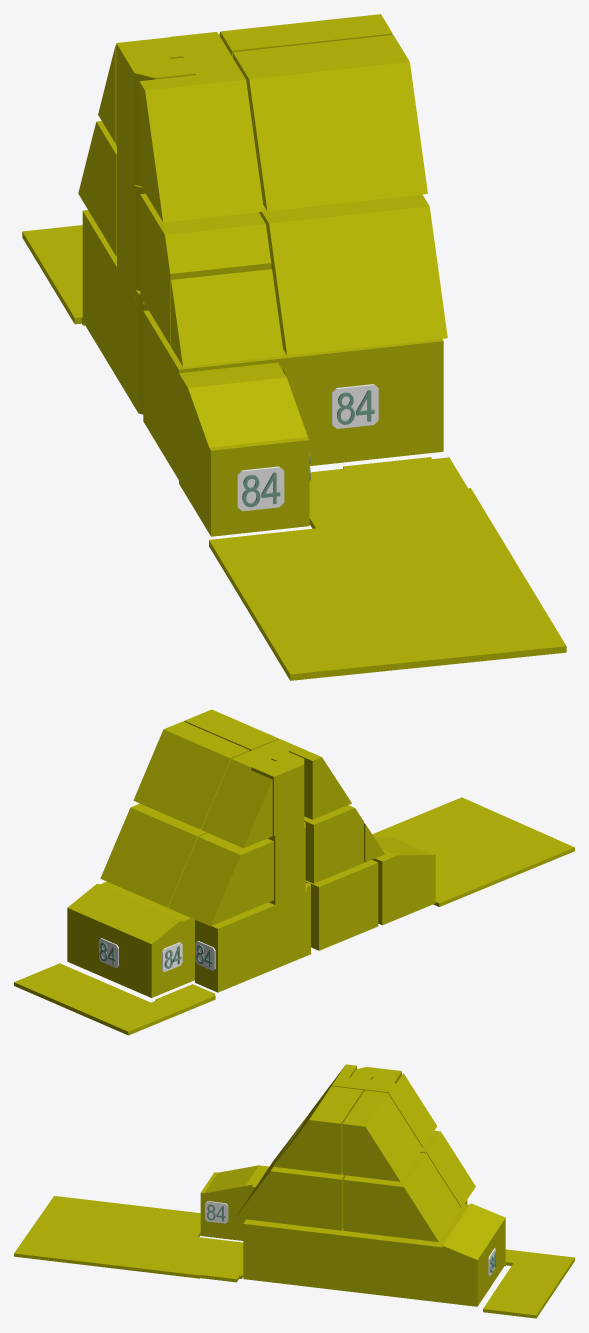
3 views of the same model, one above another, from view 1: azimuth 30°, elevation 25°; view 2: azimuth 150°, elevation 25°; view 3: azimuth 270°, elevation 25° (orthographic). The views are drawn at different scales.
Parts seen in each view (by area): view 1: g_17, g_10, g_7, g_0, g_15, g_5, g_16, g_6, g_14, g_2, g_11, g_18 (+5 smaller); view 2: g_1, g_17, g_15, g_11, g_9, g_8, g_18, g_2, g_0, g_5, g_6, g_14 (+4 smaller); view 3: g_1, g_17, g_8, g_11, g_7, g_0, g_10, g_18, g_5, g_15, g_9, g_14 (+1 smaller).
Part boxes in pixels (x1,y1,x2,y2): g_17: (209, 457, 566, 680); g_10: (233, 35, 427, 211); g_7: (259, 194, 447, 355); g_0: (143, 310, 443, 479); g_15: (98, 32, 263, 222); g_5: (179, 362, 309, 536); g_16: (171, 269, 283, 366); g_6: (140, 193, 271, 345); g_14: (116, 37, 194, 176); g_2: (82, 210, 116, 375); g_11: (219, 14, 392, 57); g_18: (22, 225, 84, 325); g_1: (67, 881, 194, 997); g_17: (372, 797, 574, 906); g_15: (201, 739, 351, 848); g_11: (133, 721, 249, 829); g_9: (168, 833, 273, 926); g_8: (100, 803, 207, 907); g_18: (14, 963, 215, 1035); g_2: (195, 903, 273, 992); g_0: (305, 860, 378, 950); g_5: (372, 836, 435, 925); g_6: (304, 805, 363, 883); g_14: (251, 751, 304, 835); g_1: (313, 1203, 505, 1306); g_17: (14, 1196, 243, 1282); g_8: (343, 1152, 461, 1241); g_11: (342, 1090, 422, 1181); g_7: (235, 1138, 345, 1230); g_0: (243, 1219, 315, 1287); g_10: (274, 1086, 363, 1174); g_18: (483, 1249, 574, 1318); g_5: (200, 1165, 268, 1240); g_15: (298, 1064, 437, 1147); g_9: (420, 1130, 475, 1207); g_14: (351, 1067, 401, 1083).
Bounding box in the file's own units: 11.94 × 7.94 × 23.69.
